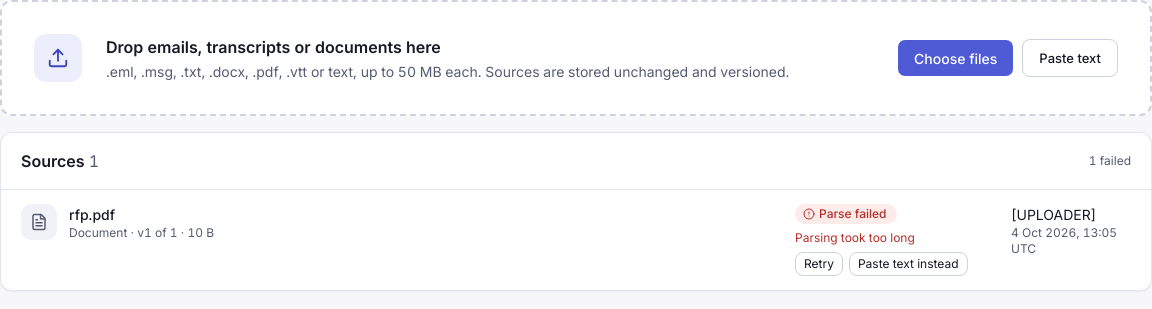
Test case: SourcesSection parsing › Retry requeues a failed row, which then polls to Parsed
Click the button with aria-label "Retry: rfp.pdf".
click(819, 264)  # box left=795, top=252, right=843, bottom=276
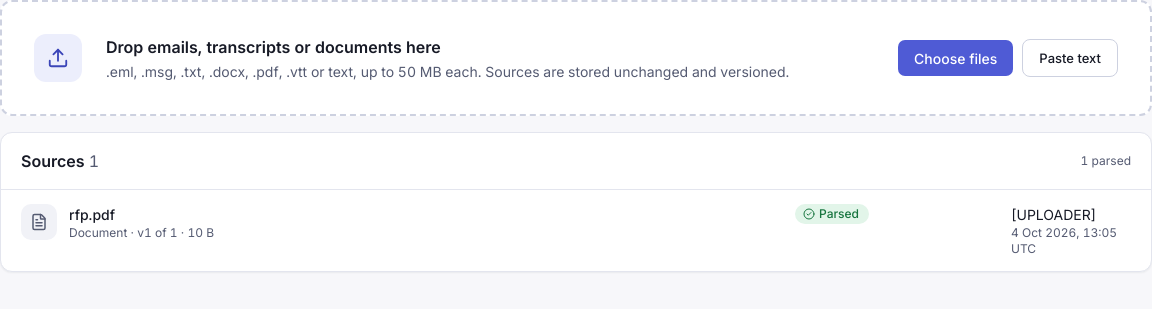
Result: the button "Retry" is gone
Result: the text "Parsed" is shown at left=795, top=204, right=869, bottom=224
